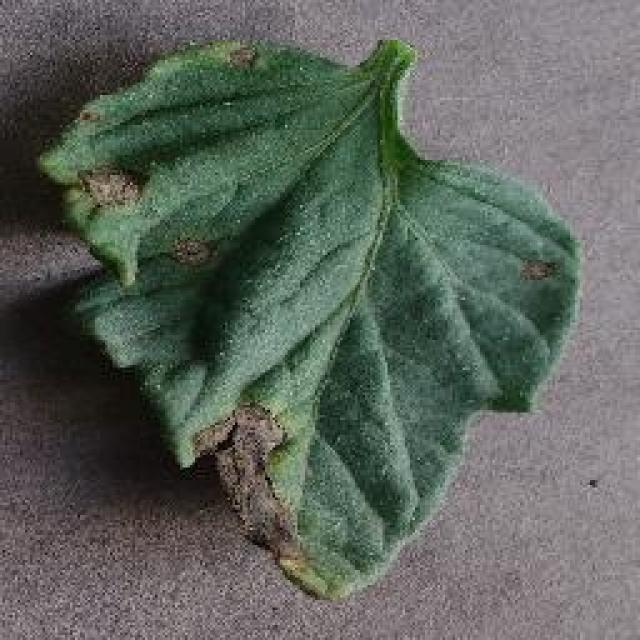Tomato___Early_blight: (36, 27, 584, 604)
